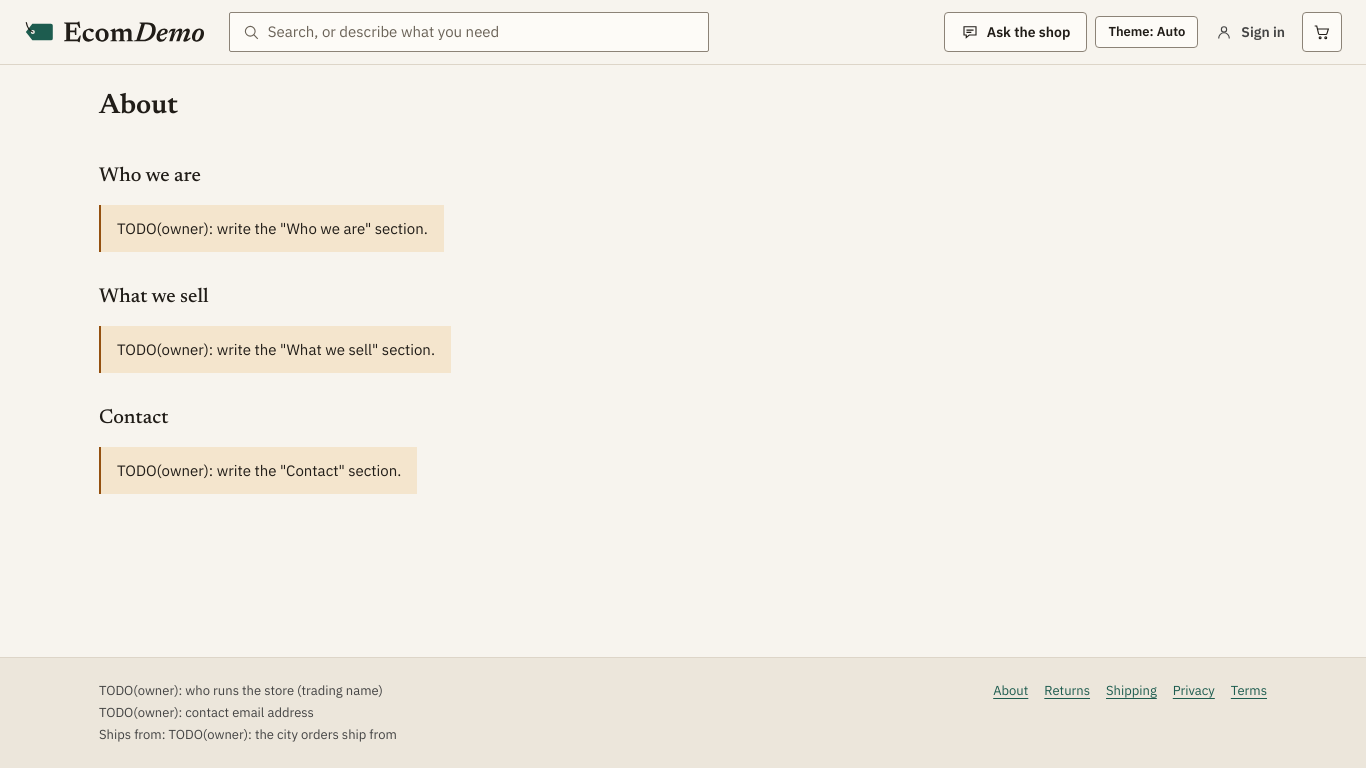
Test: the header search box › closes the list on Escape and when focus leaves
Expected: the heading "About" is shown, [99, 89, 178, 123]
Step 1. Type "desk" into the dropdown named "Search products" → (482, 32), box [268, 13, 696, 51]
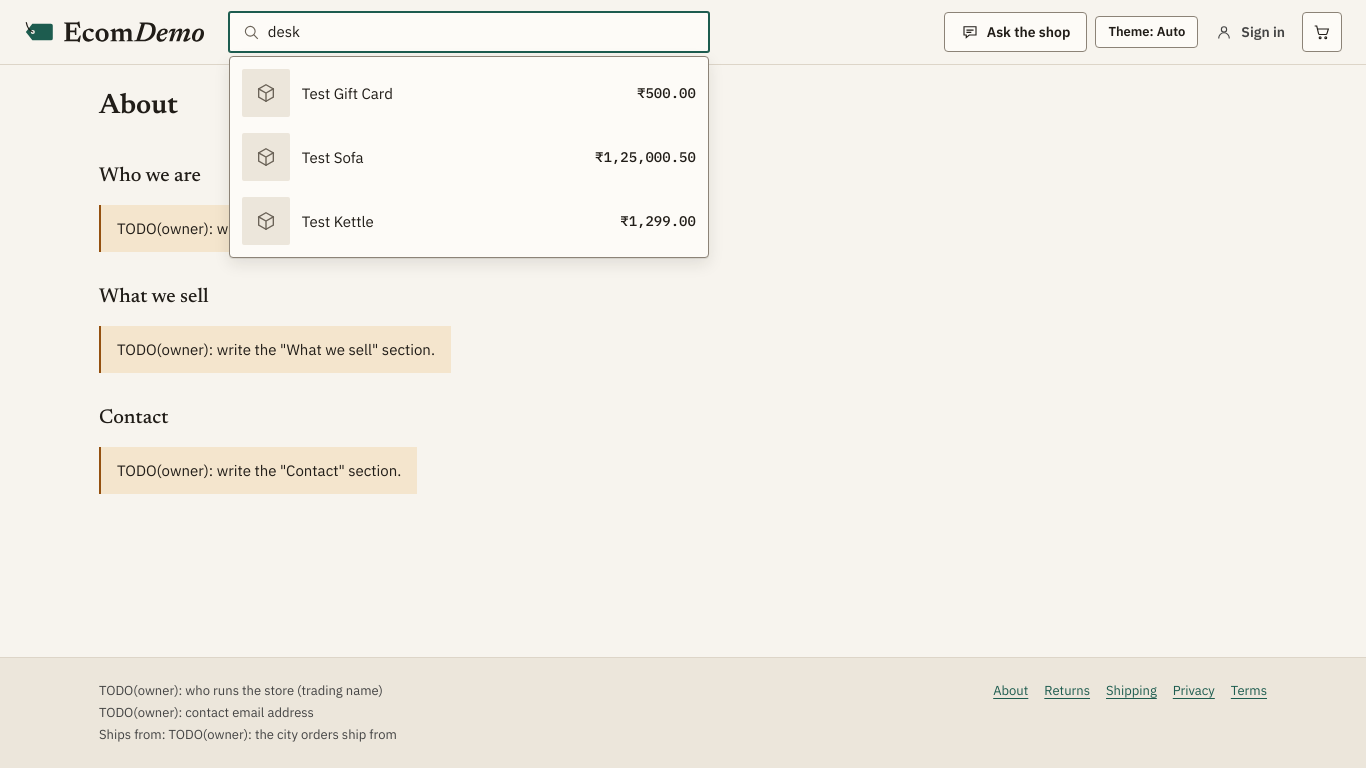
Step 2. Press Escape
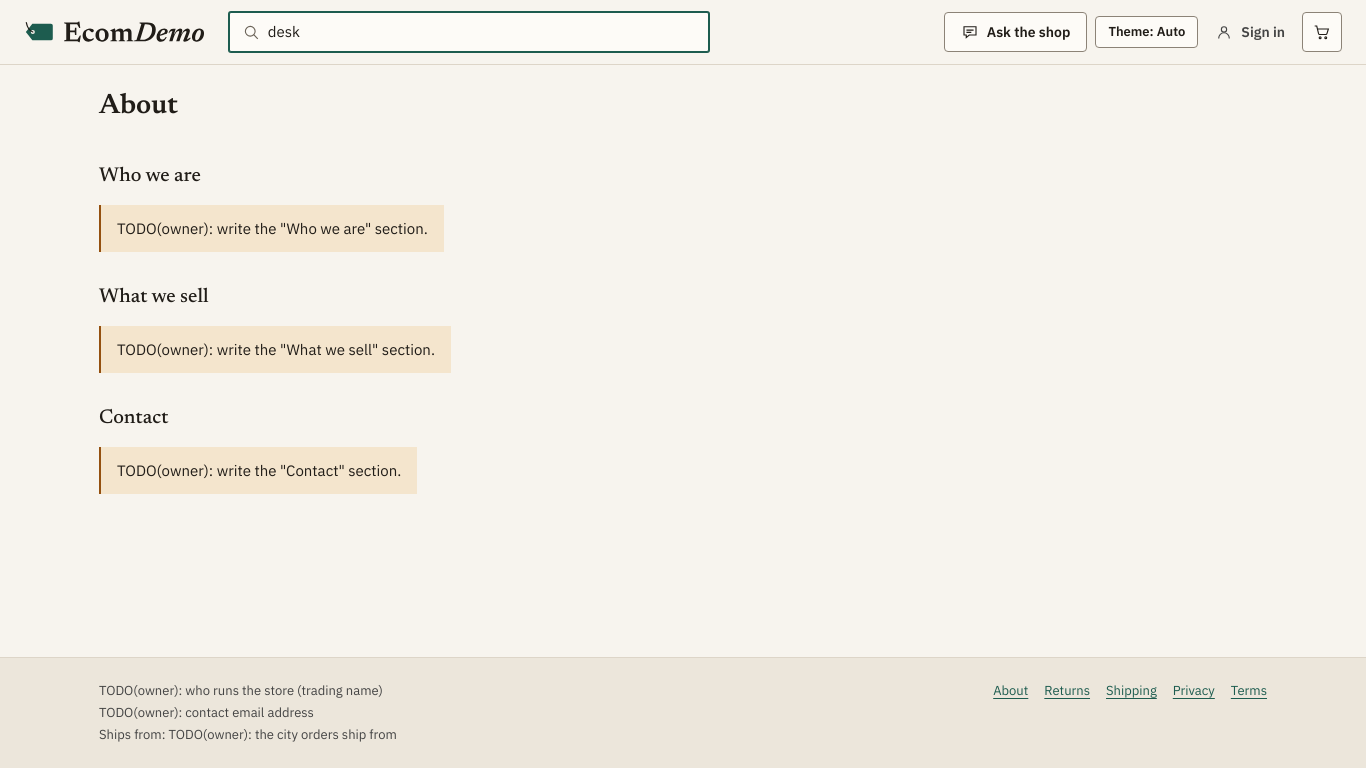
Expected: the option is gone
Step 3. Type "s" into the dropdown named "Search products" → (482, 32), box [268, 13, 696, 51]
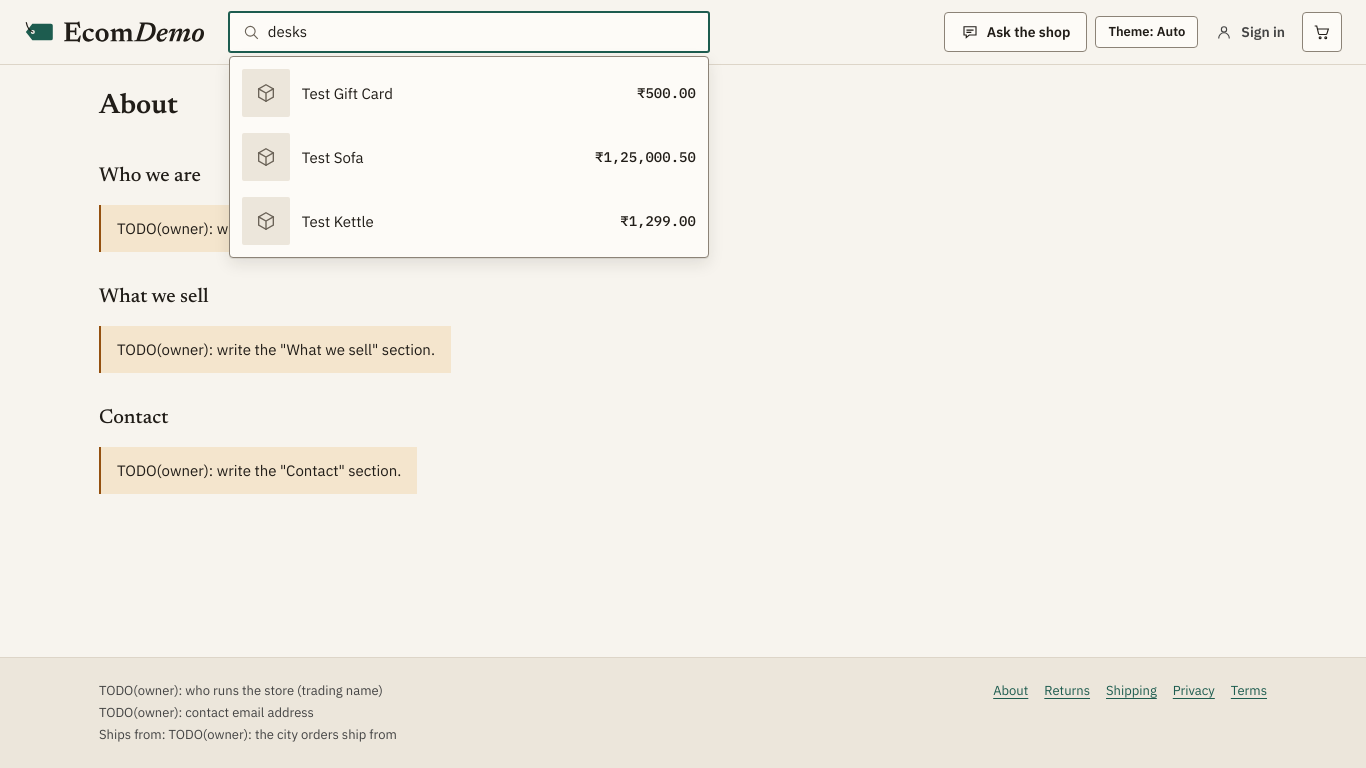
Step 4. Press Tab
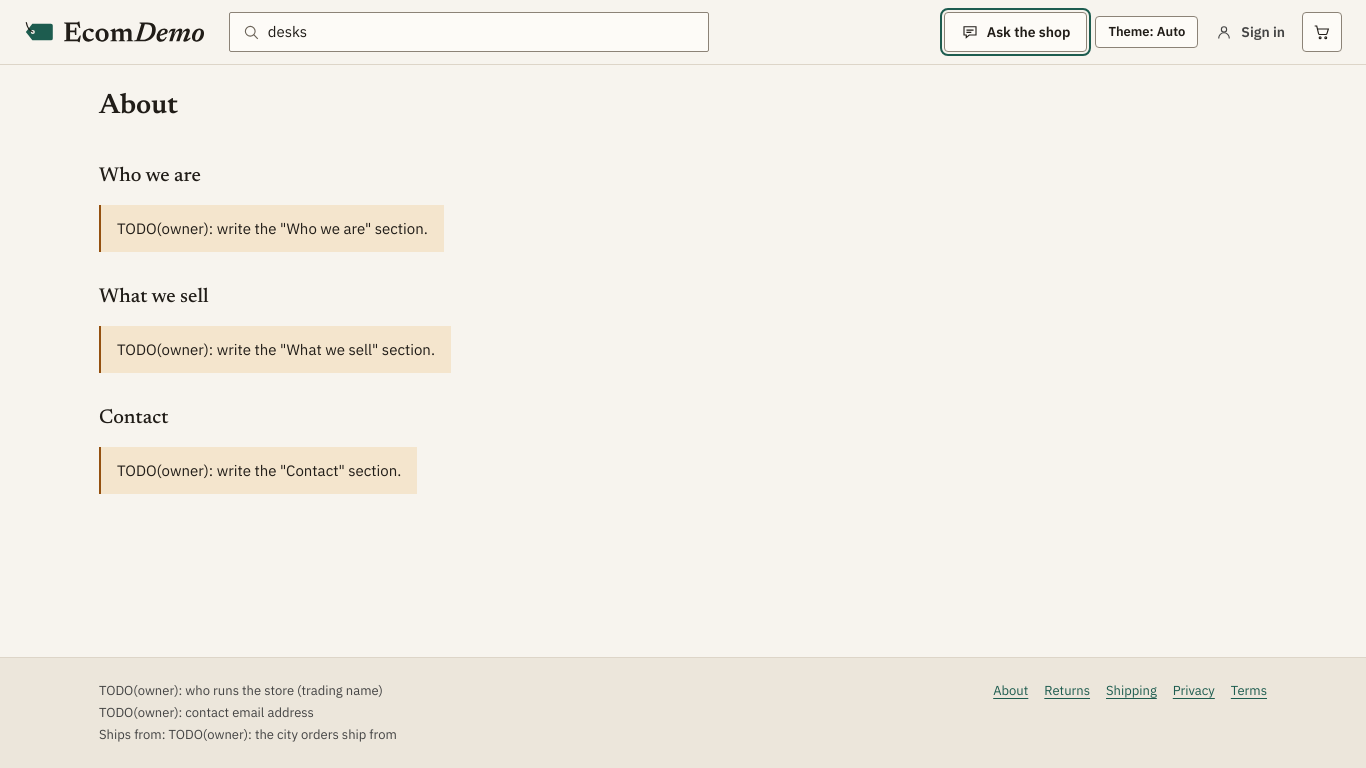
Expected: the option is gone
